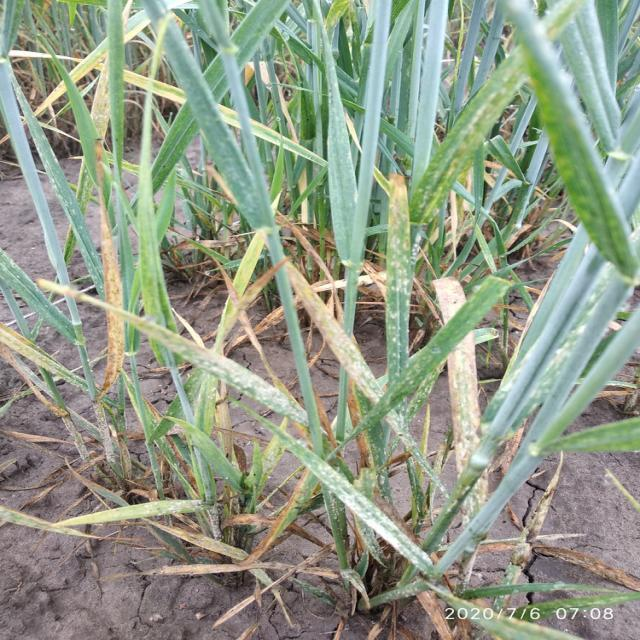Septoria: (30, 75, 243, 522), (285, 262, 383, 404)
